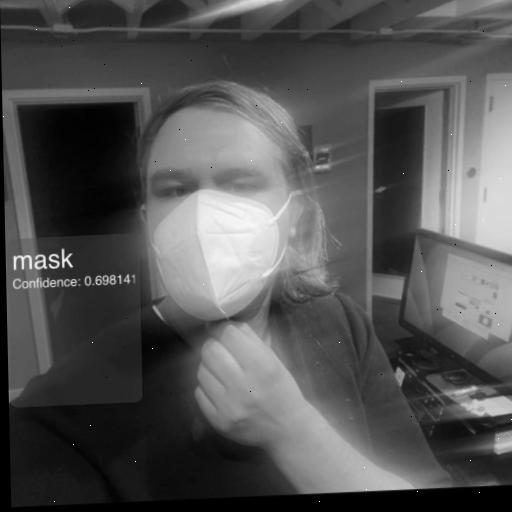mask: (123, 60, 321, 340)
